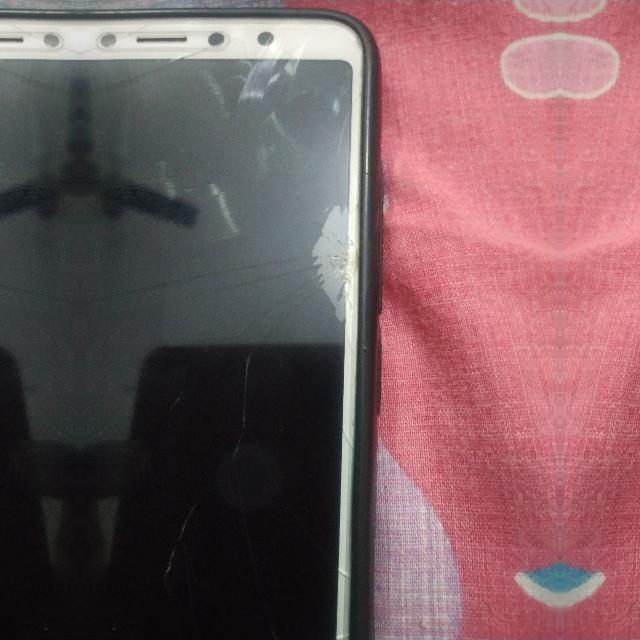phone_screen: (80, 60, 356, 639), (0, 60, 79, 638)
